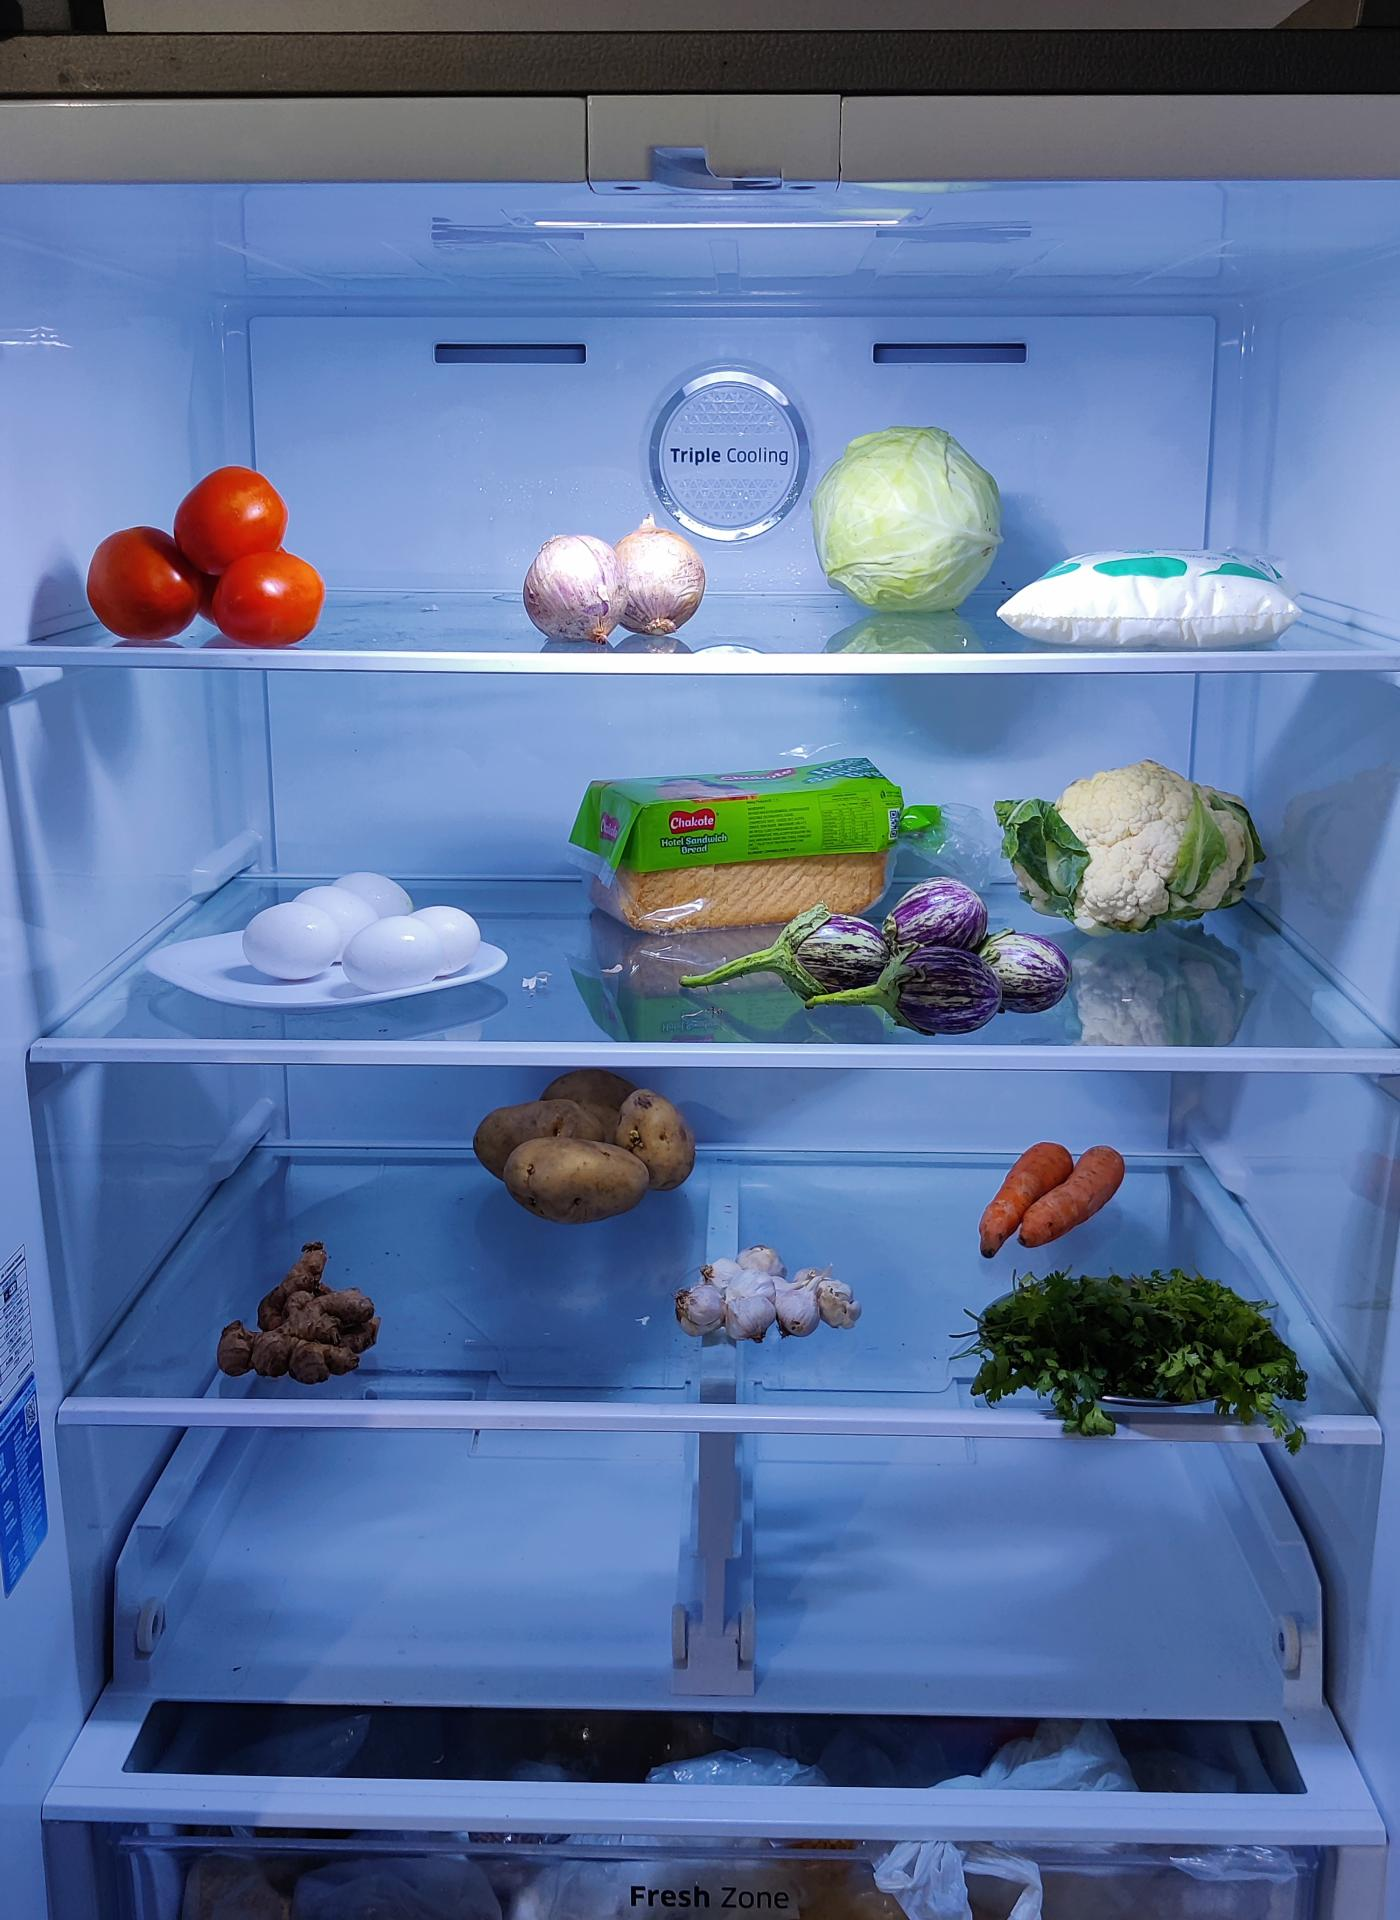bread: (580, 754, 929, 933)
brinjal: (771, 871, 1079, 1035)
cabbage: (819, 422, 1006, 614)
carrots: (981, 1142, 1132, 1261)
cauliflower: (1006, 759, 1266, 938)
coriander: (971, 1264, 1308, 1416)
egg: (249, 869, 492, 1005)
garlic: (672, 1245, 863, 1357)
ginger: (216, 1242, 394, 1389)
milk: (997, 547, 1300, 645)
onion: (523, 514, 695, 637)
potato: (473, 1058, 701, 1216)
tomato: (82, 458, 331, 644)
